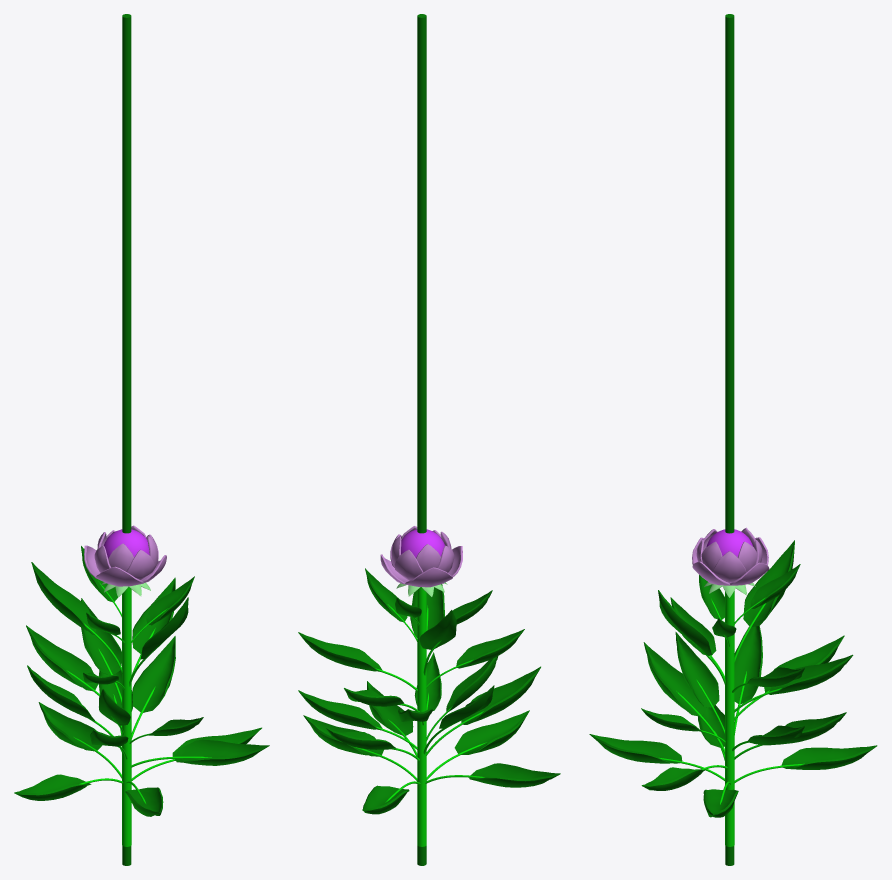
Rendered from Kaihuku_KAI.fbx.
3 renders of one model, left to right at view 1: azimuth 30°, elevation 25°; view 2: azimuth 150°, elevation 25°; view 3: azimuth 270°, elevation 25°, orthographic.
Visible parts, largest first — view 1: polySurface28, pCylinder9, pPlane13, pCylinder2, pSphere1; view 2: polySurface28, pCylinder9, pPlane13, pCylinder2, pSphere1; view 3: polySurface28, pCylinder9, pPlane13, pCylinder2, pSphere1.
Boxes of the visible parts, x1,y1,x2,y2 form: polySurface28: (14,546,269,816); pCylinder9: (122,14,131,865); pPlane13: (84,525,166,586); pCylinder2: (122,587,131,846); pSphere1: (103,529,149,558); polySurface28: (298,568,560,814); pCylinder9: (417,14,426,865); pPlane13: (380,526,462,587); pCylinder2: (417,587,426,846); pSphere1: (401,529,444,557); polySurface28: (589,540,877,817); pCylinder9: (725,14,734,865); pPlane13: (692,527,769,585); pCylinder2: (725,591,734,846); pSphere1: (706,529,753,557).
Size of the model in its own units: 10.71 by 34.32 by 10.57.
